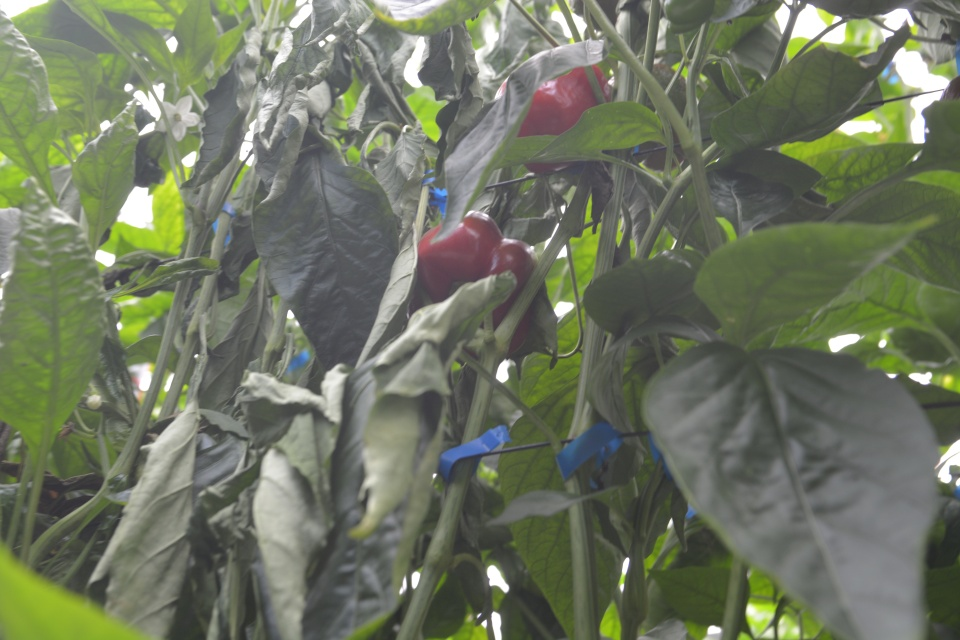flower: (152, 92, 203, 143)
fruit: (406, 207, 539, 360), (492, 61, 613, 174), (660, 0, 718, 35)
